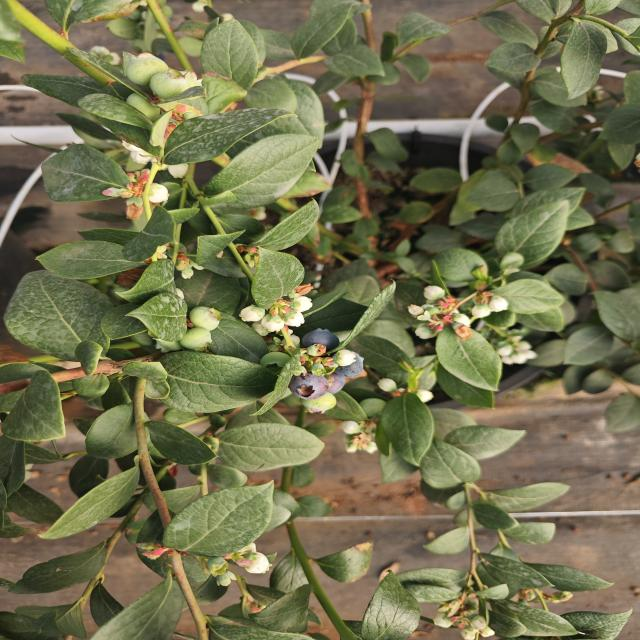ripe: (315, 349, 368, 394), (283, 366, 330, 403), (299, 322, 343, 356)
